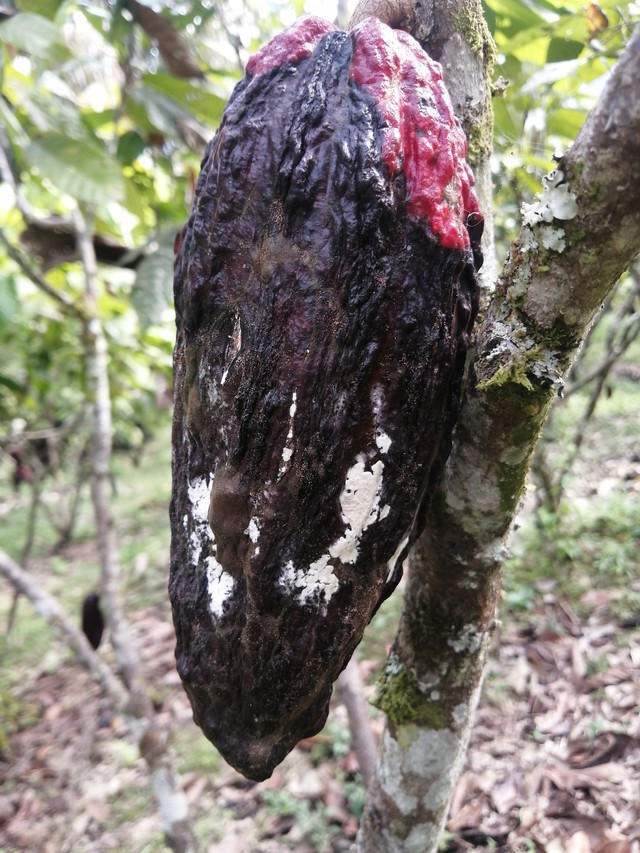moniliophthora roreri: (146, 7, 499, 785)
